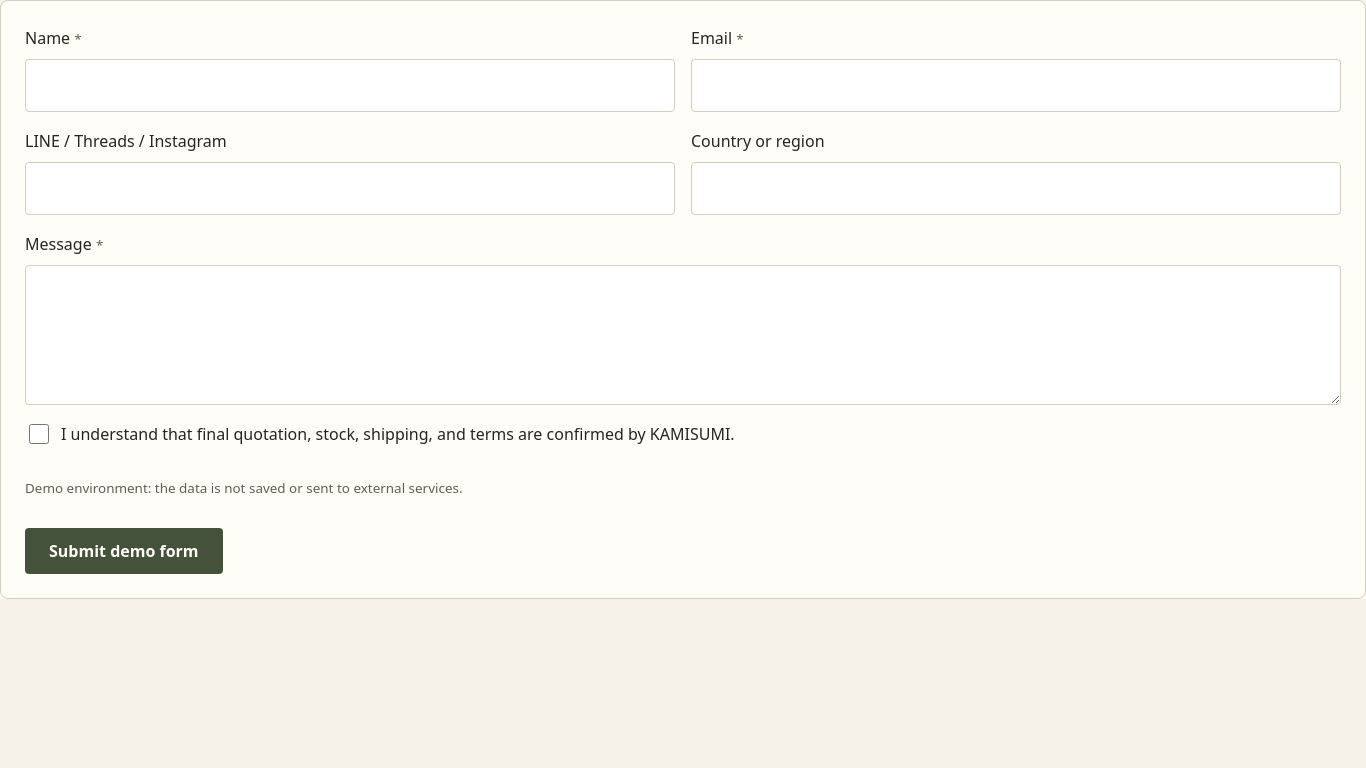
it: InquiryForm › validates required fields before demo submission
Click the button "Submit demo form" at (124, 551), box x1=25 y1=528 x2=223 y2=574
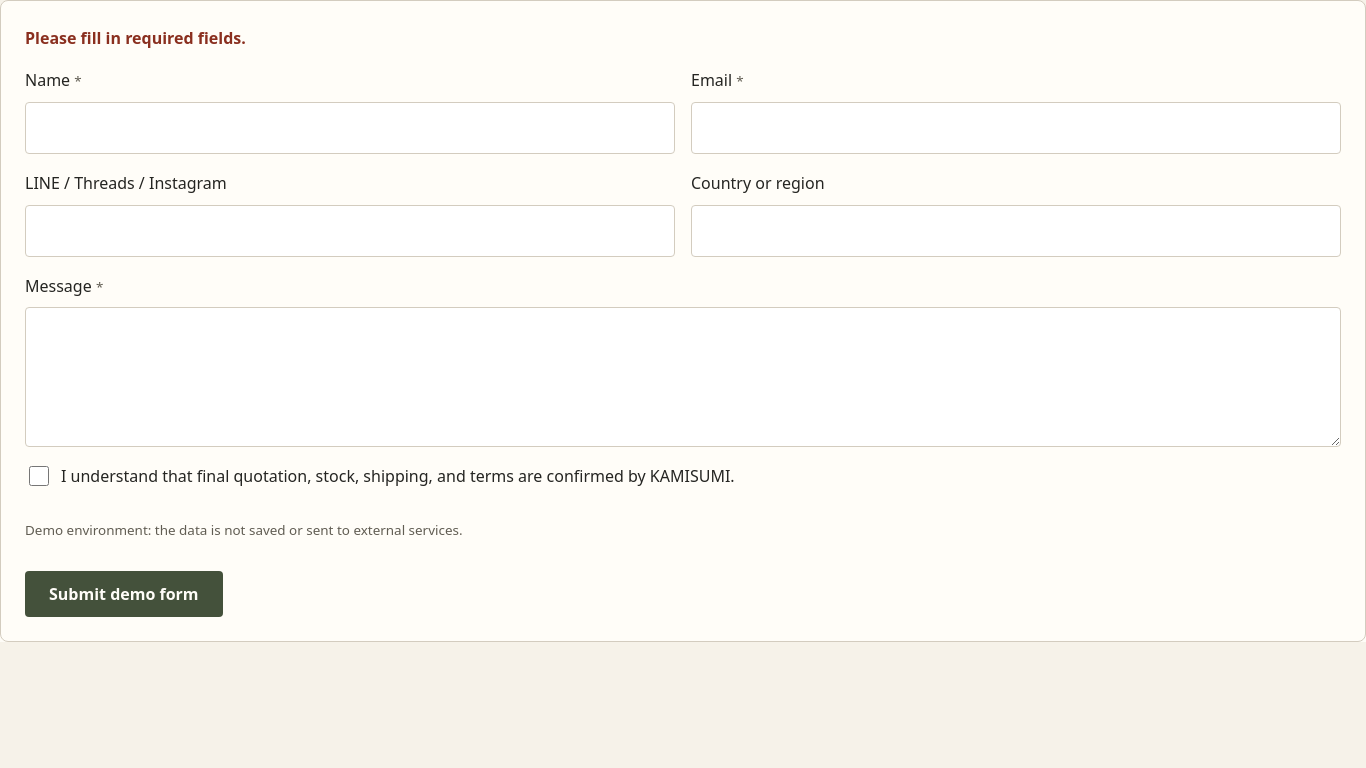
Check: the text "Please fill in required fields." is shown, box x1=25 y1=27 x2=246 y2=49
